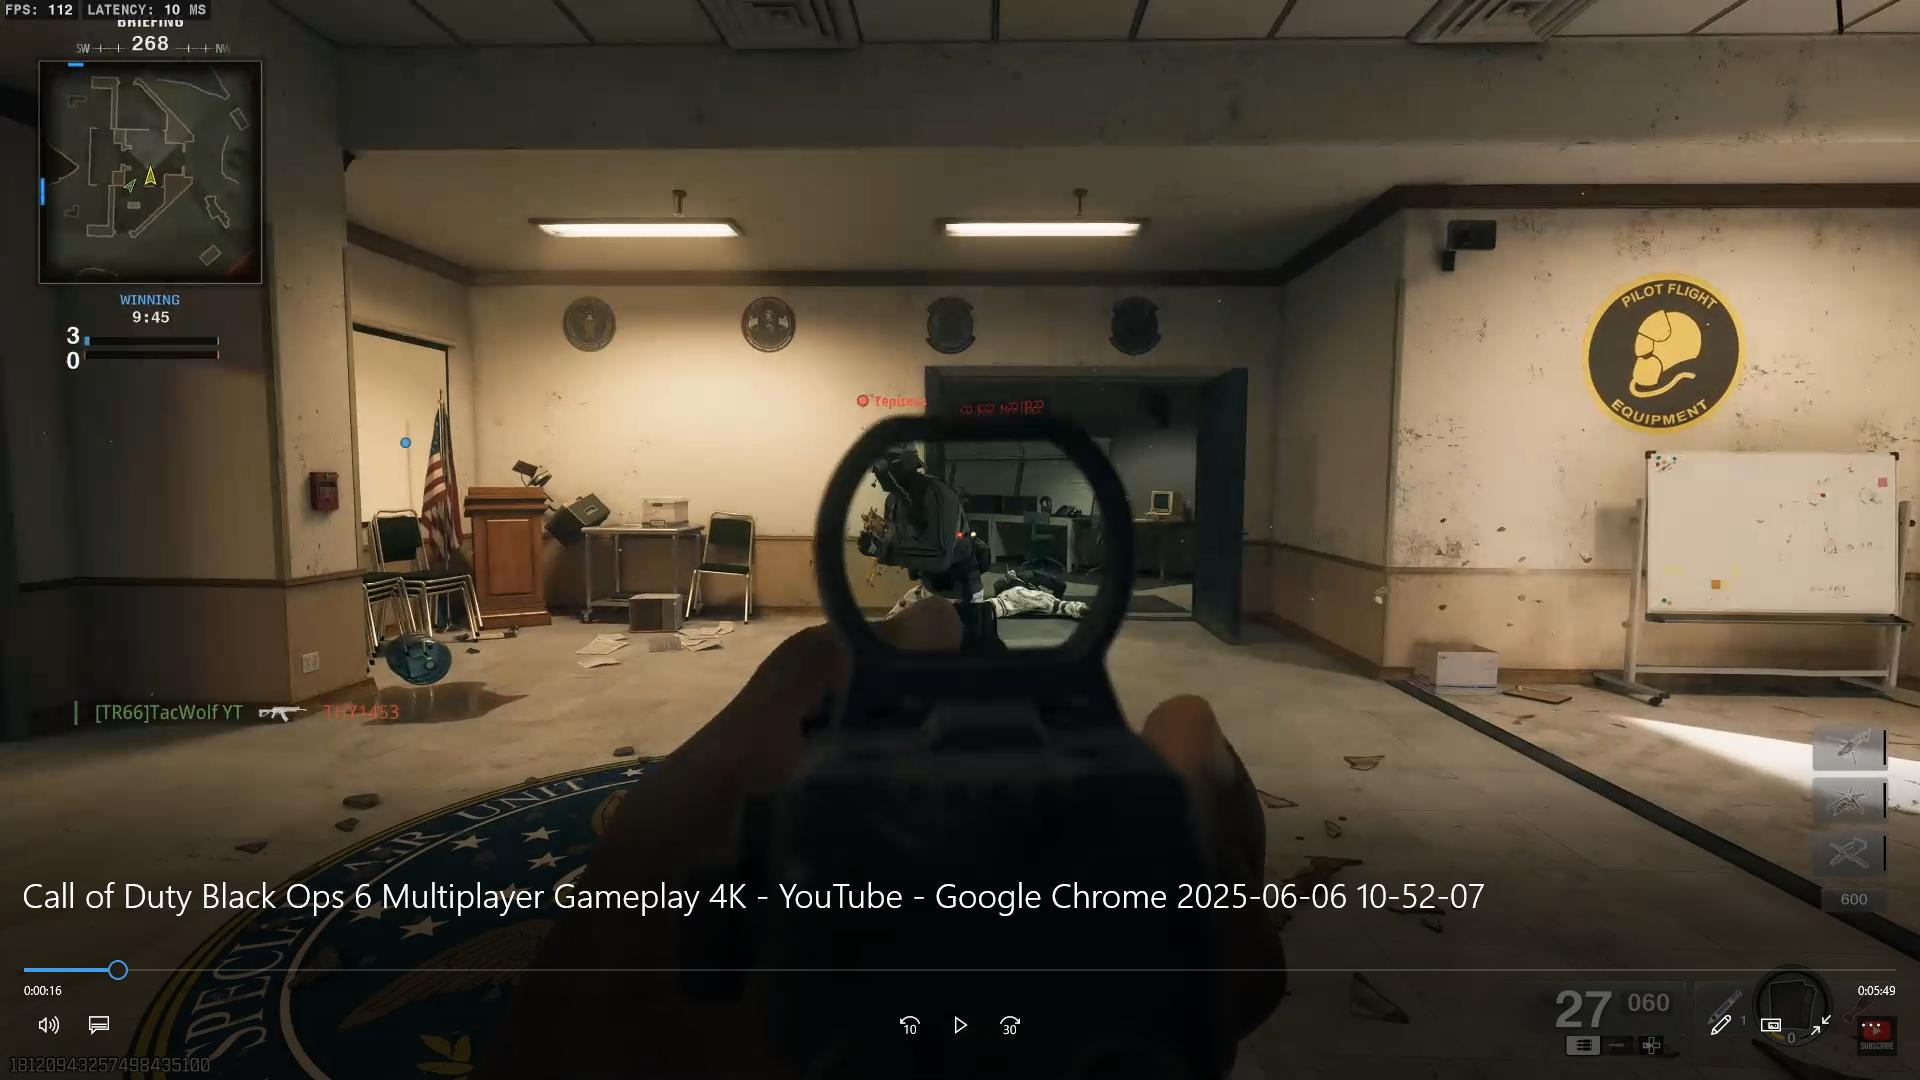Enemy: (857, 447, 1006, 615)
